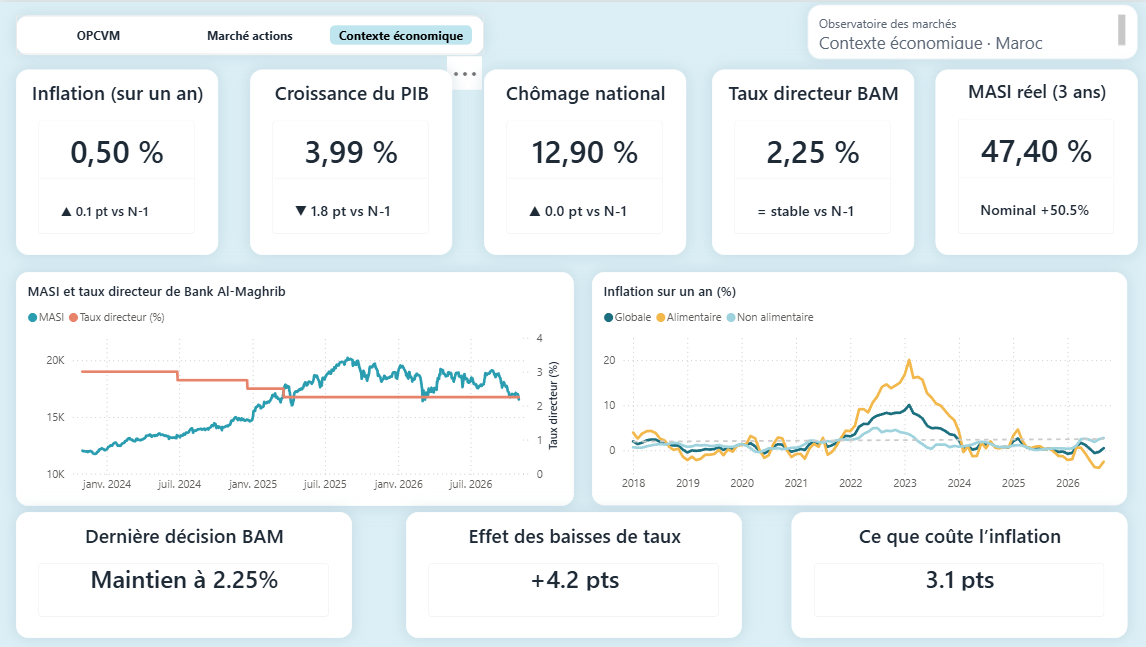

The dashboard page shown, as its layout file describes it:
{"tool":"powerbi","page":{"name":"Contexte économique","canvas":[1280,720],"ordinal":2},"visuals":[{"type":"pageNavigator","box":[20,15,520,44],"z":0},{"type":"textbox","box":[900.3,4,365.8,60],"z":1},{"type":"cardVisual","title":"Inflation (sur un an)","fields":{"Data":["_Mesures.Inflation actuelle"]},"box":[20,75,224.9,206],"z":2},{"type":"cardVisual","title":"Croissance du PIB ","fields":{"Data":["_Mesures.Croissance actuelle"]},"box":[279.7,75.6,224.9,206],"z":3},{"type":"cardVisual","title":"Chômage national","fields":{"Data":["_Mesures.Chômage actuel"]},"box":[540.5,75.6,224.9,206],"z":4},{"type":"cardVisual","title":"Taux directeur BAM","fields":{"Data":["_Mesures.Taux actuel"]},"box":[793.7,75.6,224.9,206],"z":5},{"type":"cardVisual","title":"MASI réel (3 ans)","fields":{"Data":["_Mesures.MASI réel perf"]},"box":[1041.3,75.6,224.9,206],"z":6},{"type":"lineChart","title":"MASI et taux directeur de Bank Al-Maghrib","fields":{"Category":["MASI et taux.date_seance"],"Y":["Sum(MASI et taux.masi)"],"Y2":["Sum(MASI et taux.taux_directeur_pct)"]},"box":[20.7,300,620,260],"z":7},{"type":"lineChart","title":"Inflation sur un an (%)","fields":{"Category":["Inflation.date_ref"],"Y":["Sum(Inflation.inflation_annuelle_pct)","Sum(Inflation.inflation_alimentaire_pct)","Sum(Inflation.inflation_non_alimentaire_pct)"]},"box":[660.1,300.6,594.9,259.3],"z":8},{"type":"cardVisual","title":"Dernière décision BAM","fields":{"Data":["_Mesures.Insight BAM titre"]},"box":[19.2,566.9,373.1,140],"z":9},{"type":"cardVisual","title":"Effet des baisses de taux","fields":{"Data":["_Mesures.Insight baisses valeur"]},"box":[453.3,566.7,373.3,140],"z":10},{"type":"cardVisual","title":"Ce que coûte l’inflation","fields":{"Data":["_Mesures.Insight inflation valeur"]},"box":[881.7,566.7,373.3,140],"z":11}]}

Visuals, with their boxes in screenshot pixels (x1, y1, x2, y2), scaled from the page's 1280x720 canvas onto the 1146x647 screenshot:
pageNavigator: 18:13:483:53
textbox: 806:4:1134:58
"Inflation (sur un an)" cardVisual: 18:67:219:253
"Croissance du PIB " cardVisual: 250:68:452:253
"Chômage national" cardVisual: 484:68:685:253
"Taux directeur BAM" cardVisual: 711:68:912:253
"MASI réel (3 ans)" cardVisual: 932:68:1134:253
"MASI et taux directeur de Bank Al-Maghrib" lineChart: 19:270:574:503
"Inflation sur un an (%)" lineChart: 591:270:1124:503
"Dernière décision BAM" cardVisual: 17:509:351:635
"Effet des baisses de taux" cardVisual: 406:509:740:635
"Ce que coûte l’inflation" cardVisual: 789:509:1124:635
